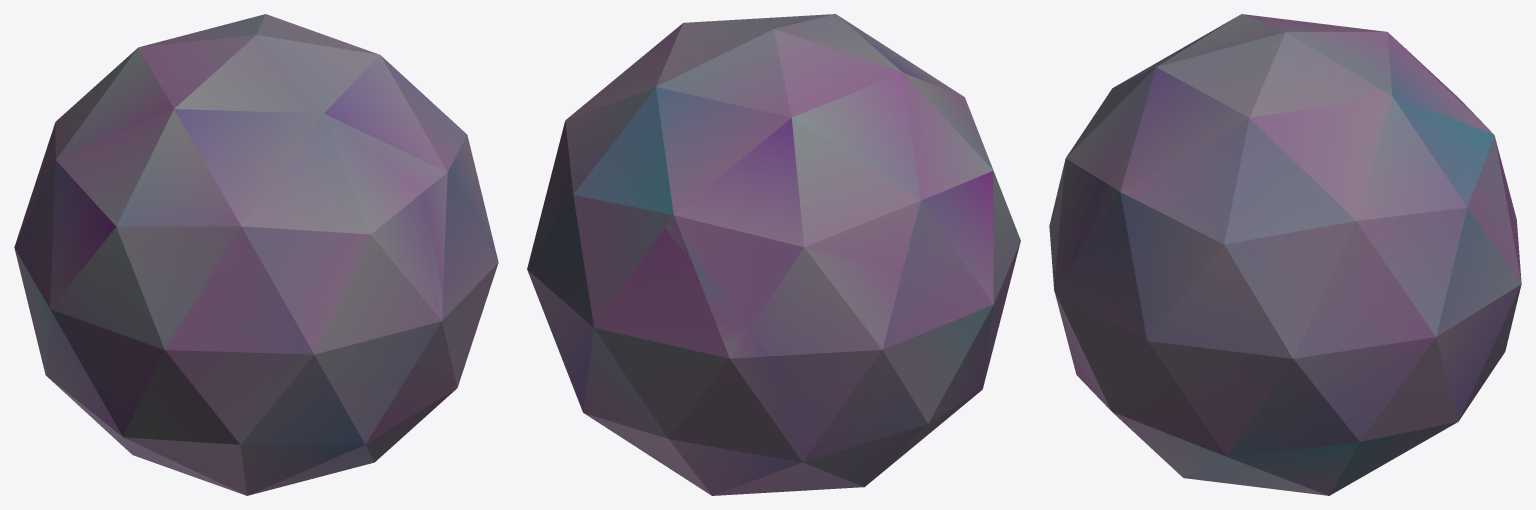
3 renders of one model, left to right at view 1: azimuth 30°, elevation 25°; view 2: azimuth 150°, elevation 25°; view 3: azimuth 270°, elevation 25°, orthographic. The views are drawn at different scales.
Parts seen in each view (by area): view 1: core; view 2: core; view 3: core.
Part boxes in pixels (<box>): core: <box>14,14,498,495</box>; core: <box>527,14,1020,495</box>; core: <box>1049,14,1521,495</box>.
Bounding box in the file's own units: 0.2499 × 0.25 × 0.2401.
